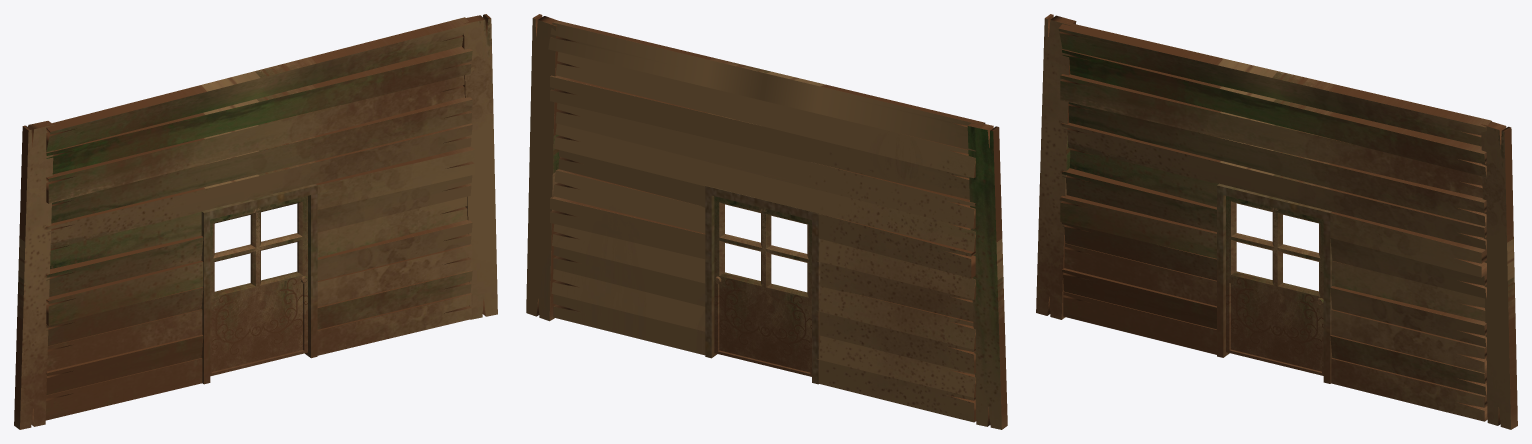
Rendered from doorway_cabin_asset.glb.
The picture shows the model from 3 angles, left to right: view 1: azimuth 30°, elevation 25°; view 2: azimuth 150°, elevation 25°; view 3: azimuth 330°, elevation 25°; orthographic projection.
Visible parts, largest first — view 1: pCube34, pCube39, pCube37; view 2: pCube34, pCube39, pCube37; view 3: pCube34, pCube39, pCube37.
Boxes of the visible parts, <box> form: pCube34: <box>14,14,497,429</box>; pCube39: <box>210,196,307,376</box>; pCube37: <box>201,184,317,384</box>; pCube34: <box>526,14,1007,429</box>; pCube39: <box>714,196,811,376</box>; pCube37: <box>705,185,820,384</box>; pCube34: <box>1036,14,1517,429</box>; pCube39: <box>1226,196,1323,375</box>; pCube37: <box>1217,183,1332,383</box>.
Size of the model in its own units: 1.18 by 0.7039 by 0.0607.
1 material, 1 textured.
